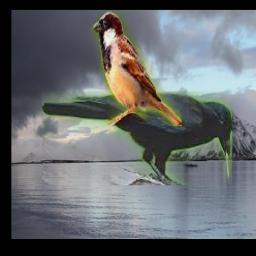Crow: (42, 92, 232, 186)
Sparrow: (91, 12, 182, 127)
